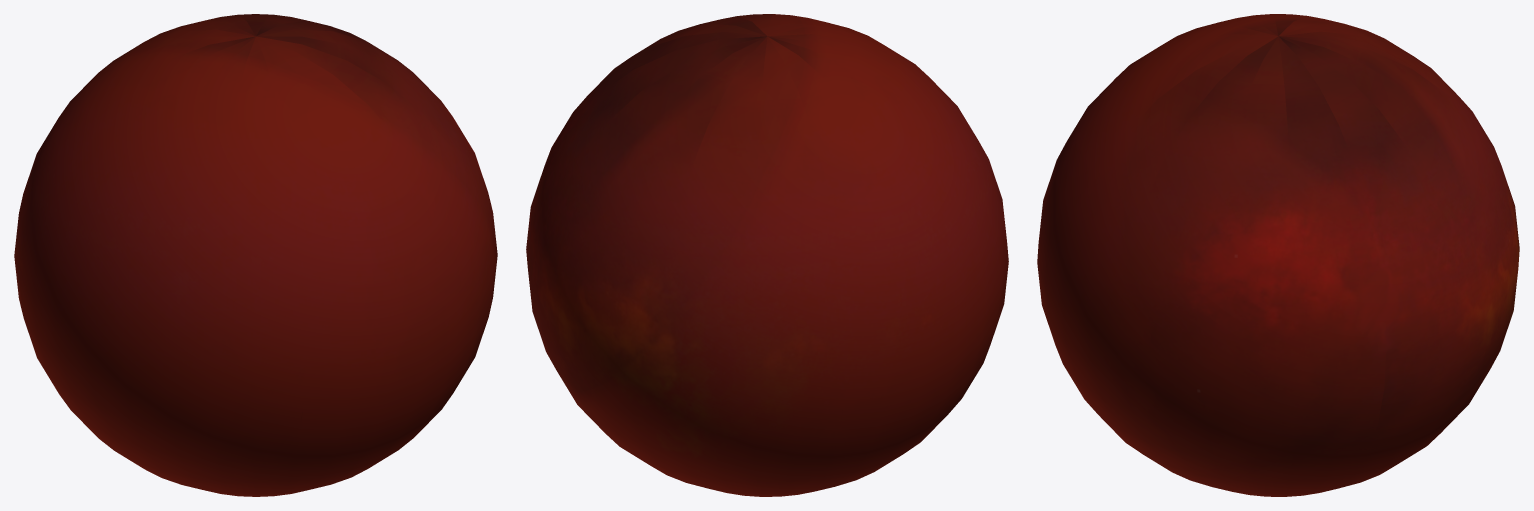
File: sky.glb
3 renders of one model, left to right at view 1: azimuth 30°, elevation 25°; view 2: azimuth 150°, elevation 25°; view 3: azimuth 270°, elevation 25°, orthographic.
Visible parts, largest first — view 1: skybox; view 2: skybox; view 3: skybox.
Part boxes in pixels (x1=…): skybox: x1=14, y1=14, x2=497, y2=496; skybox: x1=526, y1=14, x2=1008, y2=496; skybox: x1=1037, y1=14, x2=1519, y2=496.
Bounding box in the file's own units: 235 × 235 × 235.
2 materials, 2 textured.
